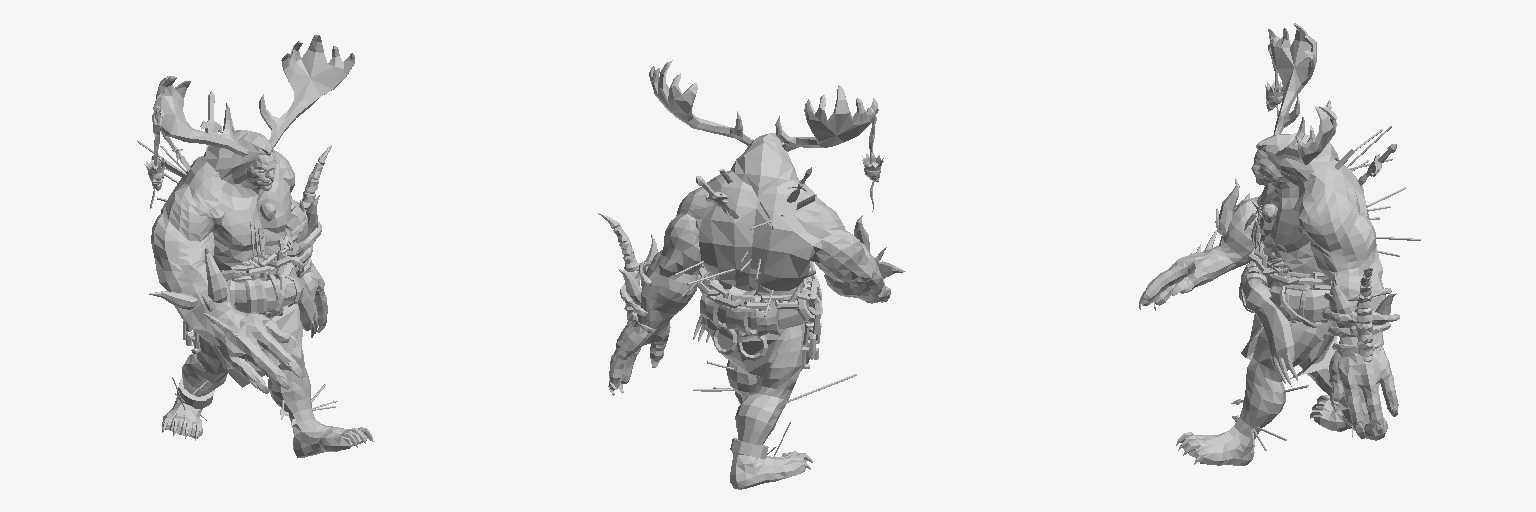
Rendered from walking_000008.obj.
3 renders of one model, left to right at view 1: azimuth 30°, elevation 25°; view 2: azimuth 150°, elevation 25°; view 3: azimuth 270°, elevation 25°, orthographic.
Parts seen in each view (by area): view 1: MAW; view 2: MAW; view 3: MAW.
Boxes of the visible parts, x1,y1,x2,y2 form: MAW: [137, 35, 373, 457]; MAW: [598, 60, 905, 489]; MAW: [1139, 23, 1420, 465].
Bounding box in the file's own units: 15.02 × 22.56 × 14.85.